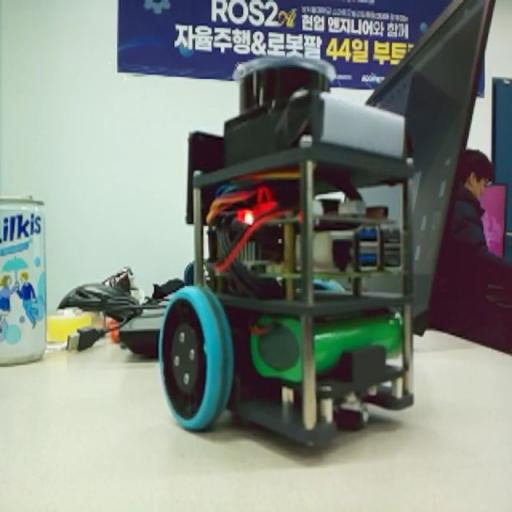pinky_63: (150, 51, 420, 453)
